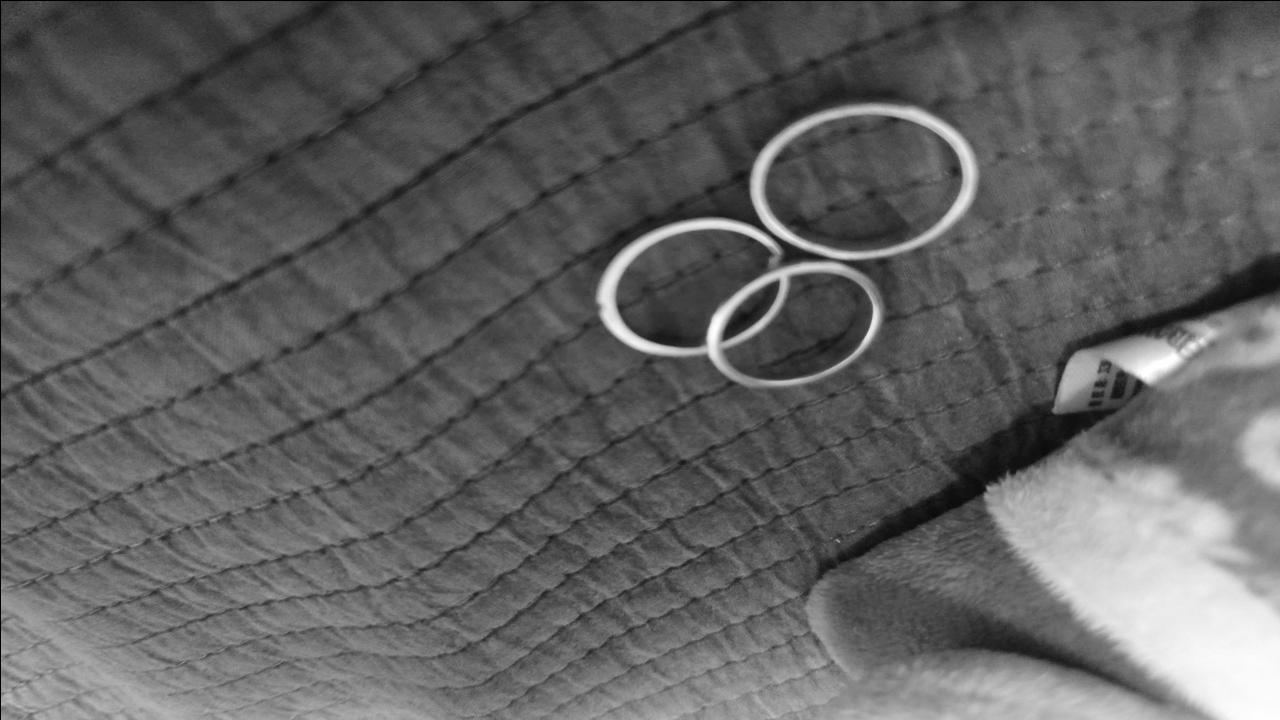ring: (746, 102, 983, 258), (594, 215, 792, 357), (701, 256, 886, 389)
